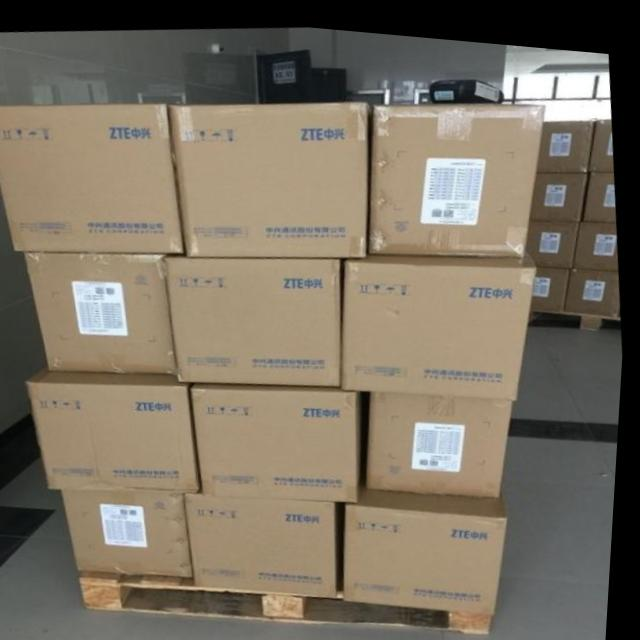box: (169, 95, 372, 253), (342, 239, 538, 391), (0, 100, 187, 251), (369, 95, 545, 249), (165, 249, 345, 382), (32, 364, 207, 489), (351, 482, 515, 606), (197, 380, 370, 494), (28, 251, 182, 370), (191, 488, 344, 591), (372, 385, 517, 488), (67, 487, 199, 573), (537, 109, 594, 162), (531, 161, 592, 210), (568, 254, 622, 304), (527, 210, 582, 256), (577, 209, 621, 260), (533, 254, 572, 300), (586, 161, 618, 211), (588, 108, 614, 161)
